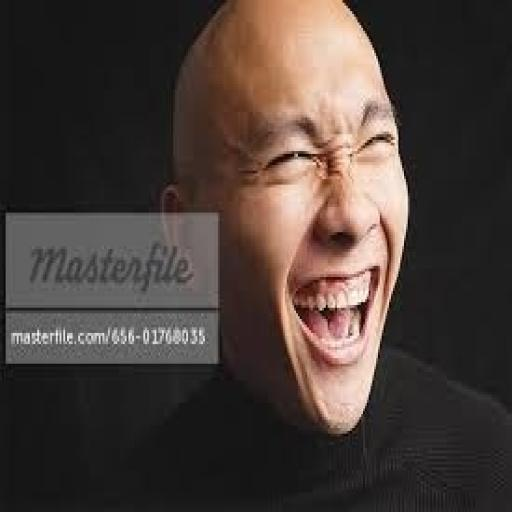laughing: (160, 0, 433, 439)
